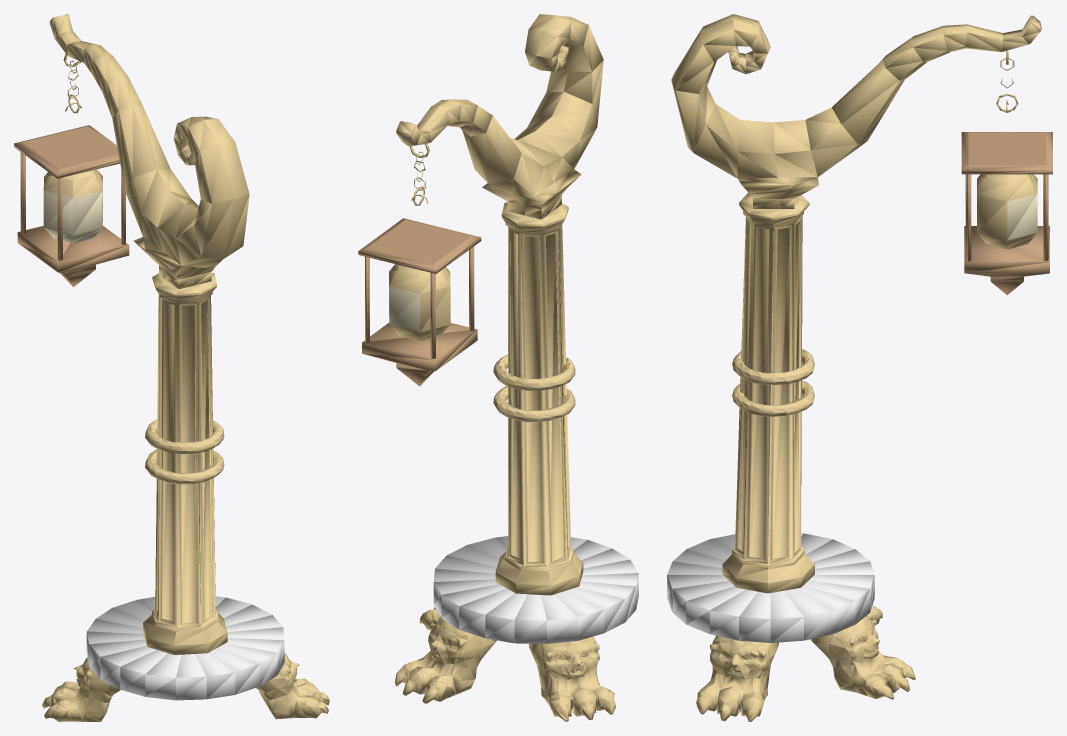
The model's file is lamp.glb.
3 renders of one model, left to right at view 1: azimuth 30°, elevation 25°; view 2: azimuth 150°, elevation 25°; view 3: azimuth 270°, elevation 25°, orthographic. The views are drawn at different scales.
Parts seen in each view (by area): view 1: tripo_node_a74aa0be-43f9-4c3f-8b0a-f83772b35afe; view 2: tripo_node_a74aa0be-43f9-4c3f-8b0a-f83772b35afe; view 3: tripo_node_a74aa0be-43f9-4c3f-8b0a-f83772b35afe.
Part boxes in pixels (x1,y1,x2,y2): tripo_node_a74aa0be-43f9-4c3f-8b0a-f83772b35afe: [14, 14, 329, 721]; tripo_node_a74aa0be-43f9-4c3f-8b0a-f83772b35afe: [358, 14, 638, 721]; tripo_node_a74aa0be-43f9-4c3f-8b0a-f83772b35afe: [667, 14, 1052, 721].
Bounding box in the file's own units: 0.3926 × 0.998 × 0.5449.
